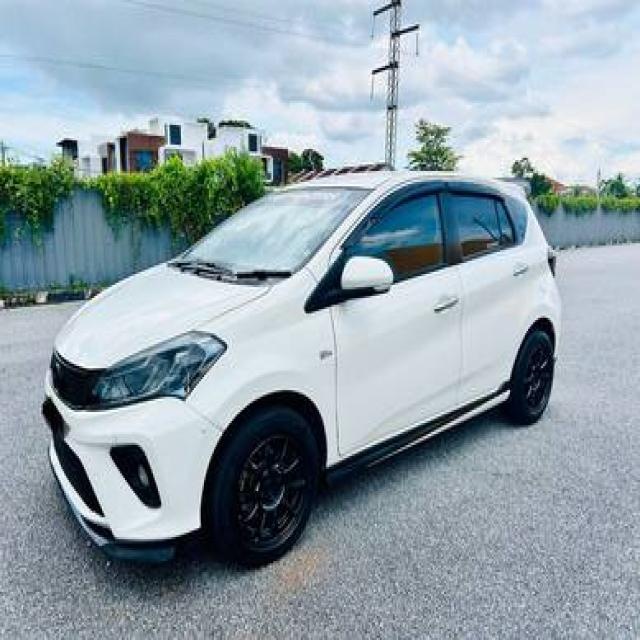PeroduaMyvi: (40, 164, 562, 570)
